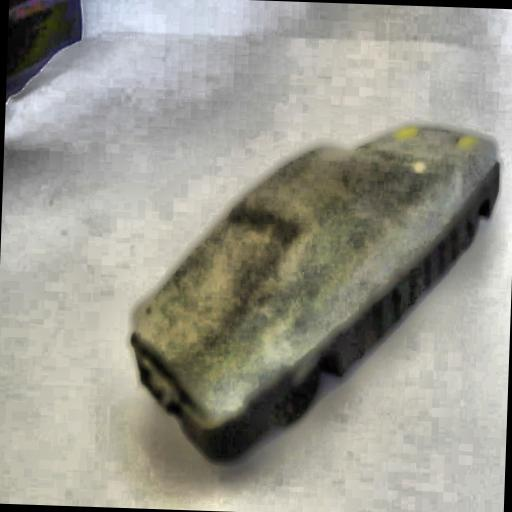normal_car: (73, 0, 512, 481)
